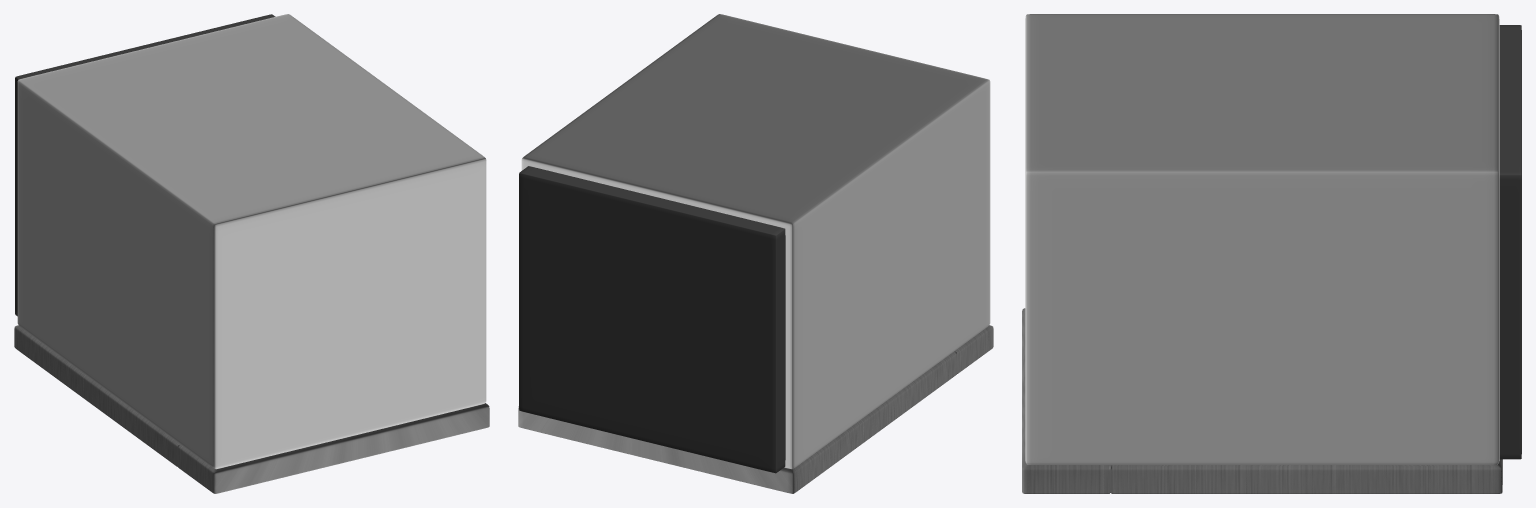
Rendered from 11634_Dishwasher_v2_l3.obj.
3 views of the same model, side by side, from view 1: azimuth 30°, elevation 25°; view 2: azimuth 150°, elevation 25°; view 3: azimuth 270°, elevation 25° (orthographic). The views are drawn at different scales.
Visible parts, largest first — view 1: Diswasher_body, Diswasher_door, Diswasher_stand; view 2: Diswasher_body, Diswasher_stand, Diswasher_door; view 3: Diswasher_body, Diswasher_door, Diswasher_stand.
Boxes of the visible parts, x1,y1,x2,y2 form: Diswasher_body: [17, 14, 486, 469]; Diswasher_door: [14, 325, 489, 493]; Diswasher_stand: [15, 14, 275, 316]; Diswasher_body: [521, 14, 990, 469]; Diswasher_stand: [519, 166, 785, 473]; Diswasher_door: [518, 325, 993, 493]; Diswasher_body: [1025, 14, 1499, 464]; Diswasher_door: [1022, 308, 1502, 493]; Diswasher_stand: [1499, 25, 1521, 459].
Size of the model in its own units: 25.66 by 24.18 by 33.7.
4 materials, 1 textured.
